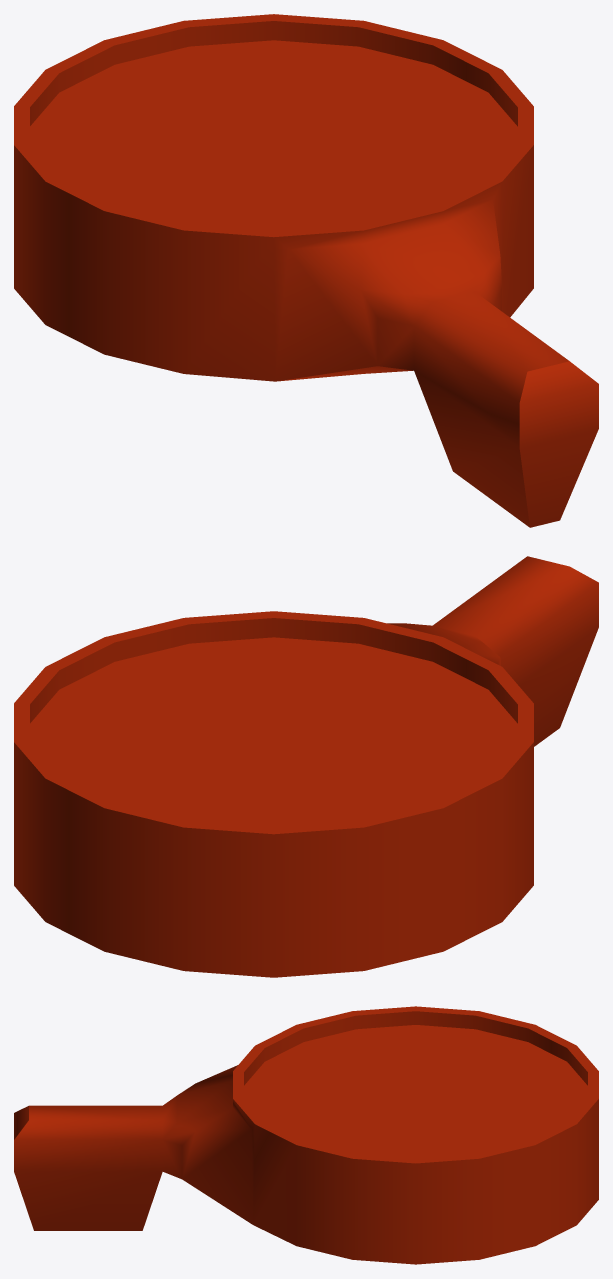
Rendered from Manometr.FBX.
3 views of the same model, one above another, from view 1: azimuth 30°, elevation 25°; view 2: azimuth 150°, elevation 25°; view 3: azimuth 270°, elevation 25° (orthographic). The views are drawn at different scales.
Visible parts, largest first — view 1: Manometr_Low; view 2: Manometr_Low; view 3: Manometr_Low.
Boxes of the visible parts, bbox=[...] form: Manometr_Low: bbox=[14, 14, 598, 527]; Manometr_Low: bbox=[14, 556, 598, 977]; Manometr_Low: bbox=[14, 1006, 598, 1264].
Size of the model in its own units: 10 by 4.18 by 15.74.
